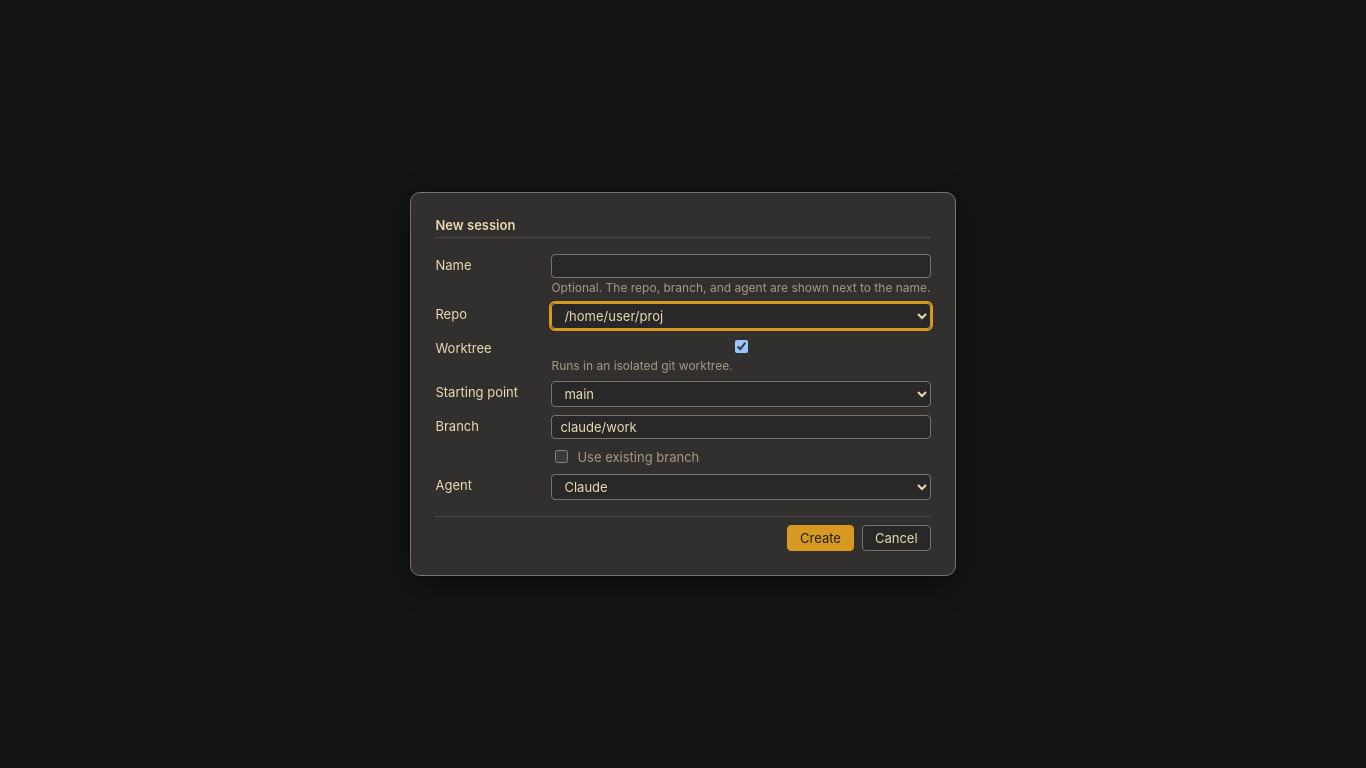
Scenario: invalid branch name disables Create and shows error message
The width and height of the screenshot is (1366, 768).
Replace the text in the field named "branch name" with "bad name!" at {"x": 741, "y": 427}, box x1=551 y1=415 x2=930 y2=439
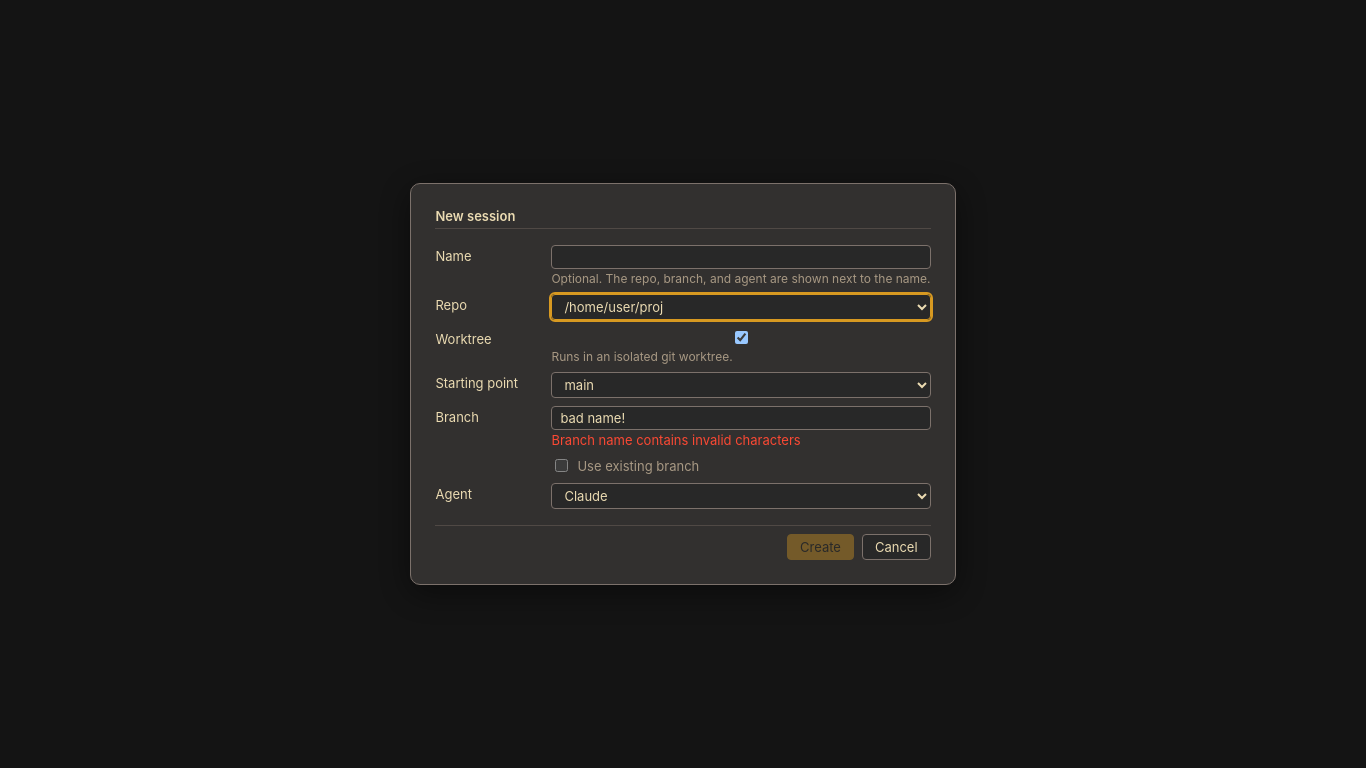
Expected: the text "Branch name contains invalid characters" is shown, x1=551 y1=432 x2=801 y2=448
Expected: the button "Create" is disabled, x1=787 y1=534 x2=854 y2=560
